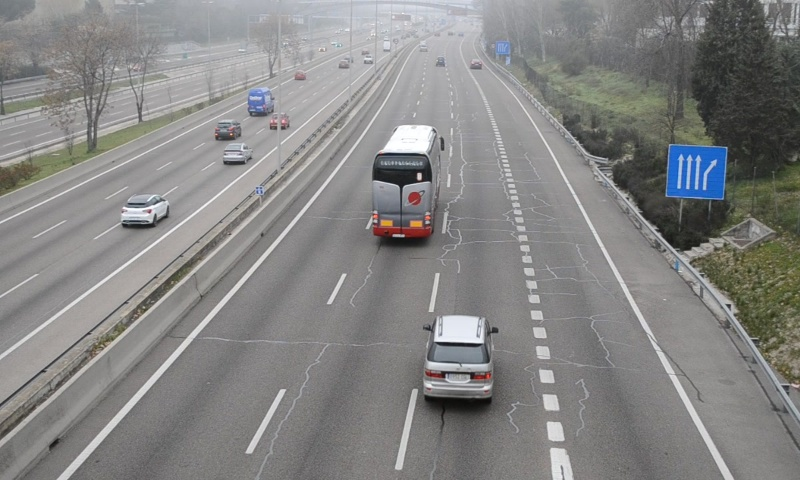bus: (370, 124, 440, 240)
car: (420, 314, 497, 404)
